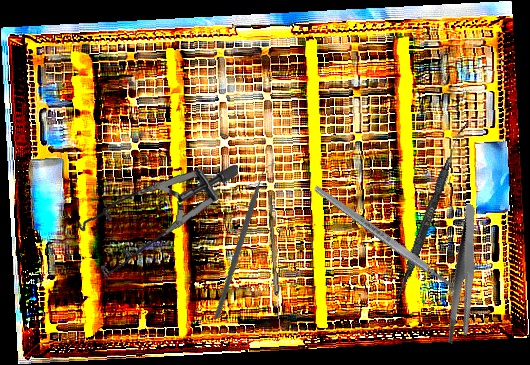Chopper: (180, 161, 313, 320)
Dressing Forceps: (418, 203, 511, 348)
Scalpel Handle: (311, 182, 457, 292)
Spatula Surgical: (391, 121, 467, 310)
Speculum: (74, 154, 239, 289)
Surgical Spoon: (265, 194, 284, 330)
